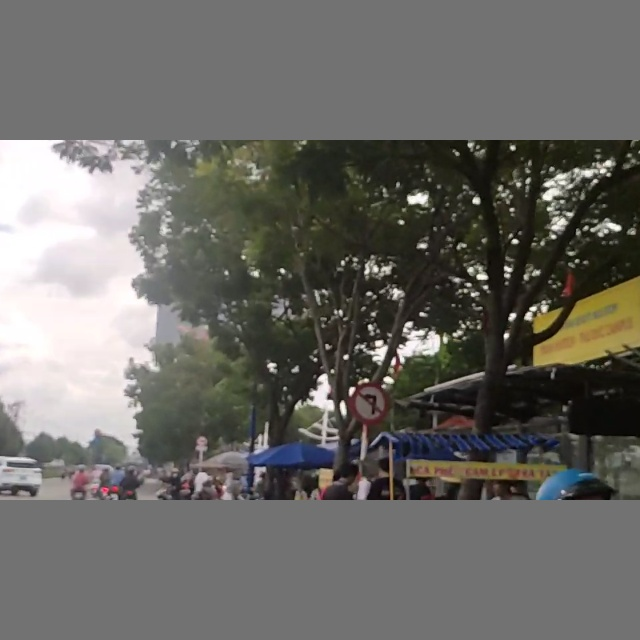P.123a: (352, 385, 387, 423)
